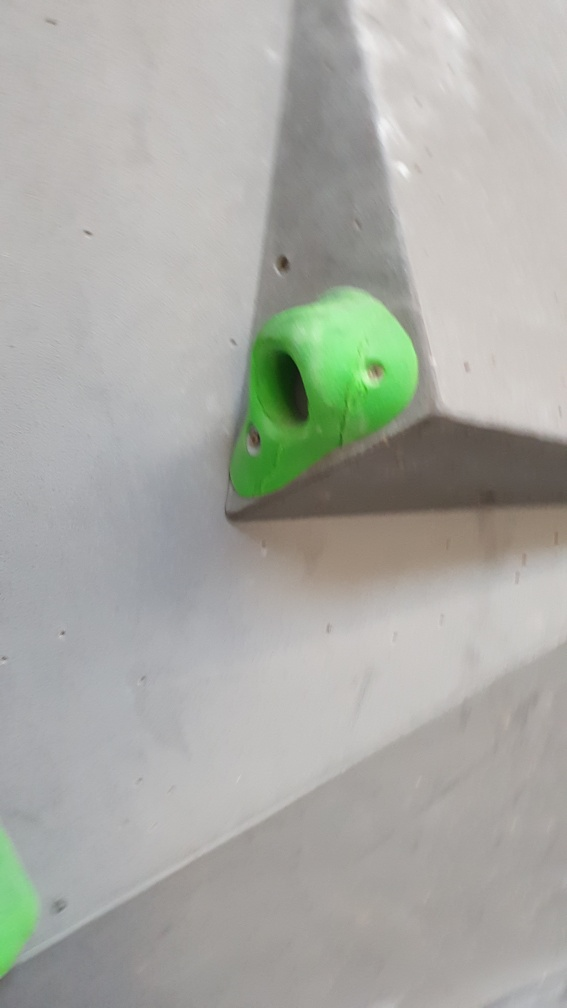Pocket: (225, 284, 421, 500)
